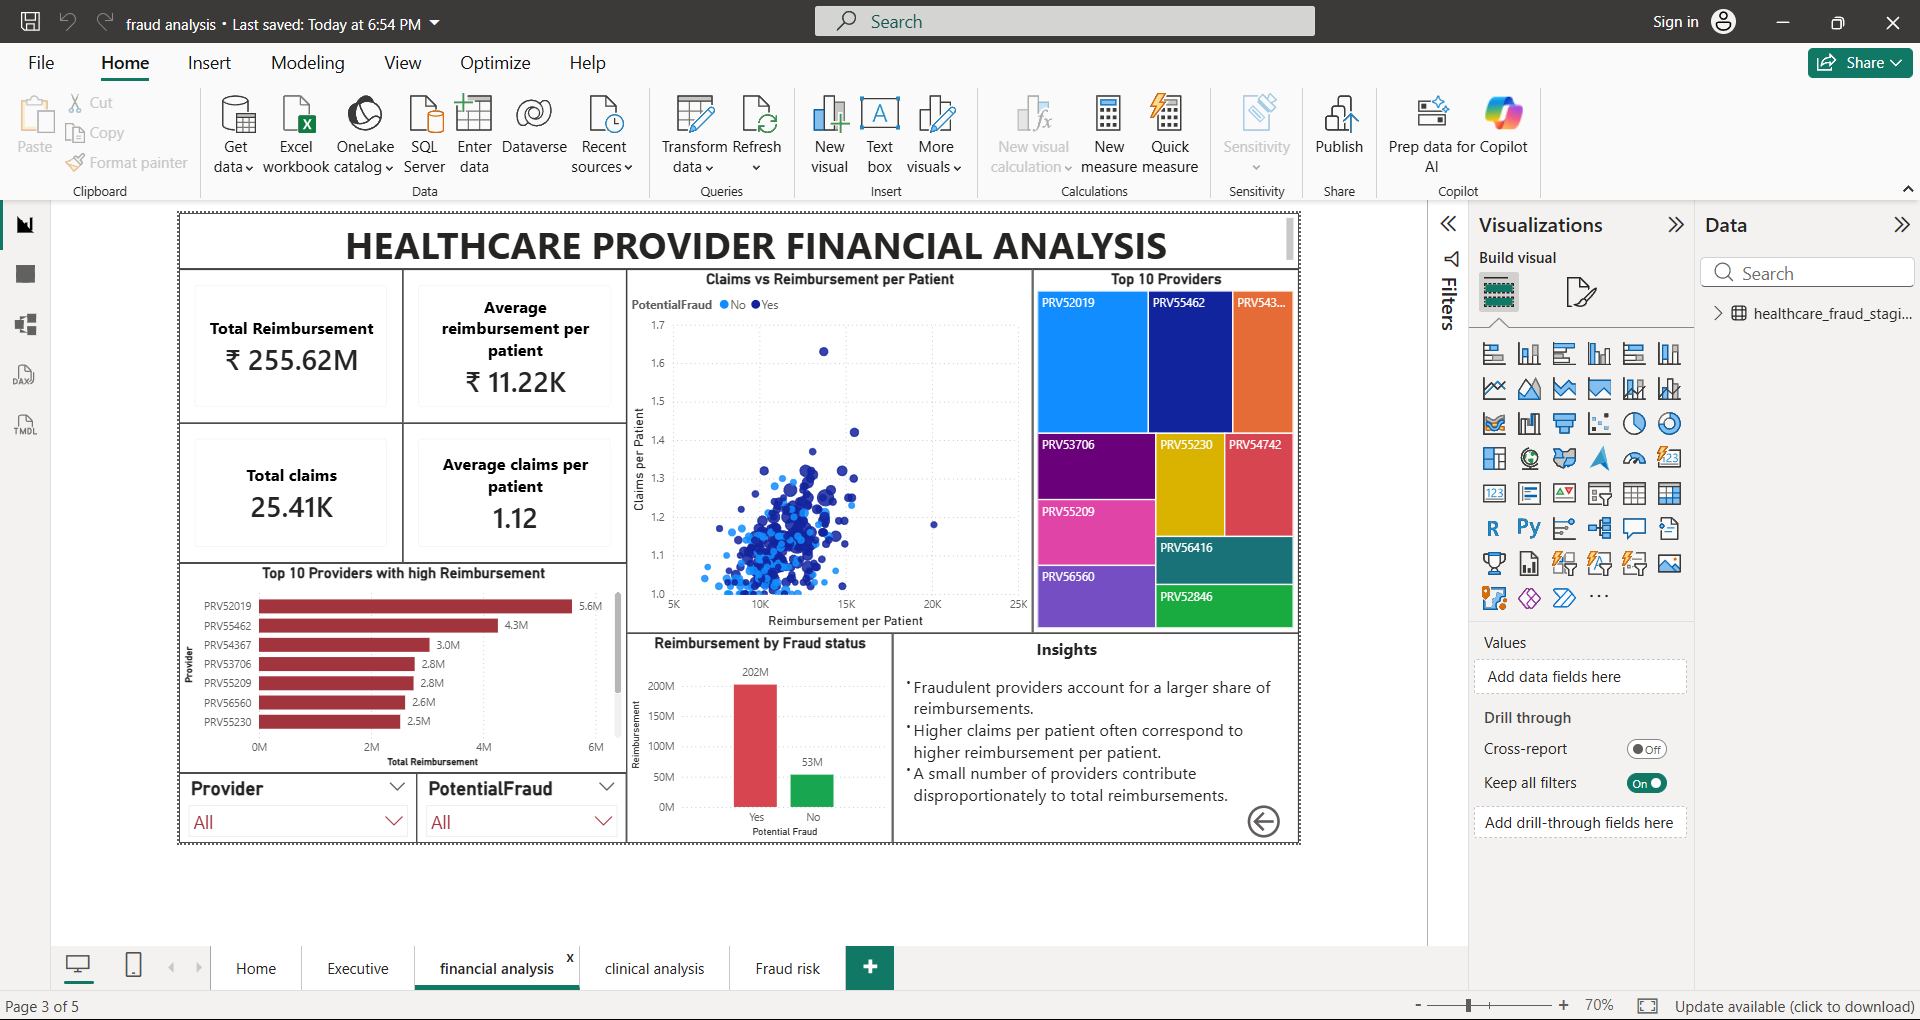

What the dashboard file says about the page in this screenshot:
{"tool":"powerbi","page":{"name":"financial analysis ","canvas":[1280,720],"ordinal":2},"visuals":[{"type":"textbox","box":[0,0,1280,64],"z":0},{"type":"cardVisual","fields":{"Data":["healthcare_fraud_staging provider_summary.Total Reimbursement"]},"box":[0,64,256,176],"z":1000},{"type":"clusteredColumnChart","title":"Reimbursement by Fraud status","fields":{"Category":["healthcare_fraud_staging provider_summary.PotentialFraud"],"Y":["Sum(healthcare_fraud_staging provider_summary.total_reimb)"]},"box":[496,176,384,192],"z":2000},{"type":"scatterChart","title":"Claims vs Reimbursement per Patient","fields":{"X":["Sum(healthcare_fraud_staging provider_summary.avg_reimb_per_patient)"],"Y":["Sum(healthcare_fraud_staging provider_summary.claims_per_patient)"],"Category":["healthcare_fraud_staging provider_summary.provider"],"Series":["healthcare_fraud_staging provider_summary.PotentialFraud"],"Size":["Sum(healthcare_fraud_staging provider_summary.total_claims)"]},"box":[512,64,464,416],"z":3000},{"type":"treemap","title":"Top 10 Providers","fields":{"Values":["Sum(healthcare_fraud_staging provider_summary.total_reimb)"],"Group":["healthcare_fraud_staging provider_summary.provider"]},"box":[976,64,304,416],"z":4000},{"type":"cardVisual","fields":{"Data":["healthcare_fraud_staging provider_summary.Total claims"]},"box":[0,240,256,160],"z":5000},{"type":"cardVisual","fields":{"Data":["healthcare_fraud_staging provider_summary.Average reimbursement per patient"]},"box":[256,64,256,176],"z":6000},{"type":"cardVisual","fields":{"Data":["healthcare_fraud_staging provider_summary.Average claims per patient"]},"box":[256,240,256,160],"z":7000},{"type":"slicer","fields":{"Values":["healthcare_fraud_staging provider_summary.provider"]},"box":[0,640,272,80],"z":8000},{"type":"slicer","fields":{"Values":["healthcare_fraud_staging provider_summary.PotentialFraud"]},"box":[272,640,240,80],"z":9000},{"type":"clusteredBarChart","title":"Top 10 Providers with high Reimbursement","fields":{"Y":["Sum(healthcare_fraud_staging provider_summary.total_reimb)"],"Category":["healthcare_fraud_staging provider_summary.provider"]},"box":[0,400,512,240],"z":10000},{"type":"textbox","box":[816,480,464,240],"z":11000},{"type":"clusteredColumnChart","title":"Reimbursement by Fraud status","fields":{"Category":["healthcare_fraud_staging provider_summary.PotentialFraud"],"Y":["Sum(healthcare_fraud_staging provider_summary.total_reimb)"]},"box":[512,480,304,240],"z":12000},{"type":"actionButton","box":[1216,672,64,48],"z":13000}]}

Visuals, with their boxes on the page's 1280x720 design canvas (x1, y1, x2, y2). These are canvas units, not pixel positions in the 1920x1020 screenshot, which may show the page scaled, cropped or inside an application window:
textbox: locate(0, 0, 1280, 64)
cardVisual - healthcare_fraud_staging provider_summary.Total Reimbursement: locate(0, 64, 256, 240)
"Reimbursement by Fraud status" clusteredColumnChart: locate(496, 176, 880, 368)
"Claims vs Reimbursement per Patient" scatterChart: locate(512, 64, 976, 480)
"Top 10 Providers" treemap: locate(976, 64, 1280, 480)
cardVisual - healthcare_fraud_staging provider_summary.Total claims: locate(0, 240, 256, 400)
cardVisual - healthcare_fraud_staging provider_summary.Average reimbursement per patient: locate(256, 64, 512, 240)
cardVisual - healthcare_fraud_staging provider_summary.Average claims per patient: locate(256, 240, 512, 400)
slicer - healthcare_fraud_staging provider_summary.provider: locate(0, 640, 272, 720)
slicer - healthcare_fraud_staging provider_summary.PotentialFraud: locate(272, 640, 512, 720)
"Top 10 Providers with high Reimbursement" clusteredBarChart: locate(0, 400, 512, 640)
textbox: locate(816, 480, 1280, 720)
"Reimbursement by Fraud status" clusteredColumnChart: locate(512, 480, 816, 720)
actionButton: locate(1216, 672, 1280, 720)
